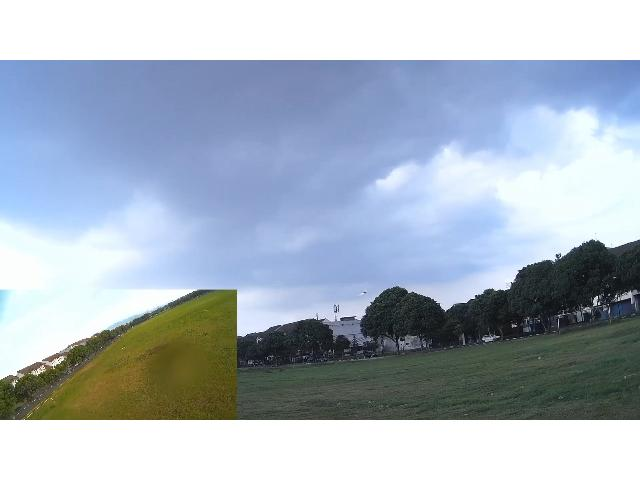Anti-Drone: (351, 280, 375, 304)
